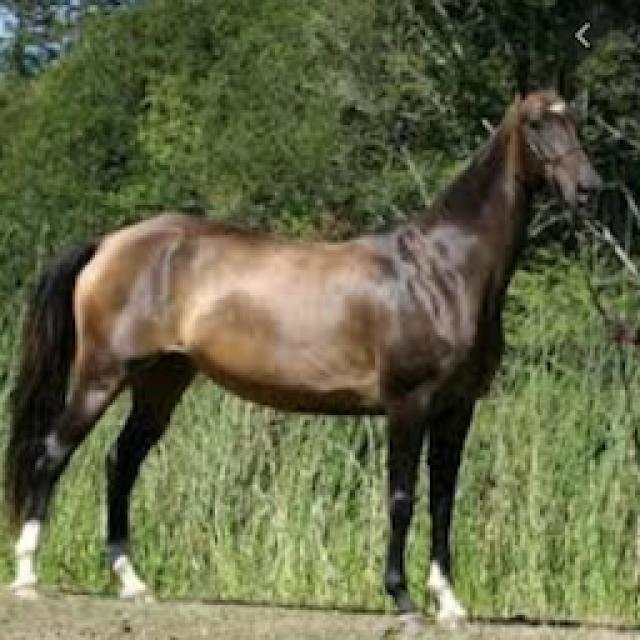Horse: (0, 80, 610, 638)
